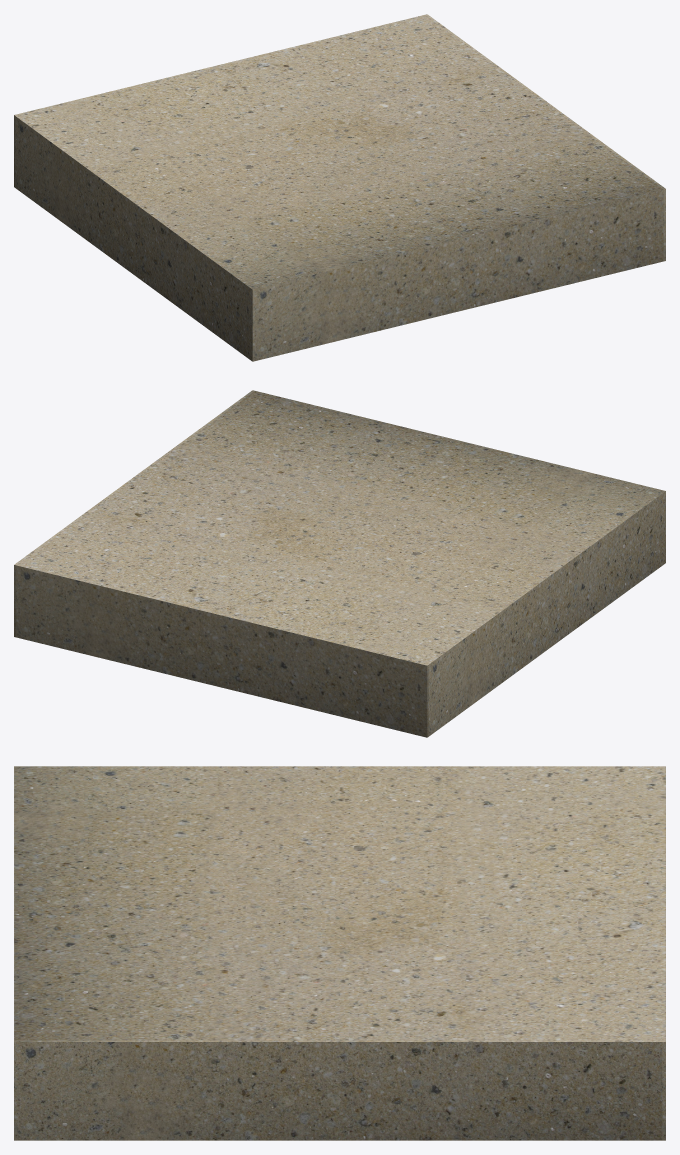
Rendered from shotblasted_newgrange_autumn_oyster.glb.
3 views of the same model, one above another, from view 1: azimuth 30°, elevation 25°; view 2: azimuth 150°, elevation 25°; view 3: azimuth 270°, elevation 25° (orthographic). The views are drawn at different scales.
Visible parts, largest first — view 1: Material2; view 2: Material2; view 3: Material2.
Part boxes in pixels (<box>): Material2: <box>14,14,665,361</box>; Material2: <box>14,390,665,737</box>; Material2: <box>14,766,665,1140</box>.
Bounding box in the file's own units: 11.81 × 1.97 × 11.81.
1 material, 1 textured.
